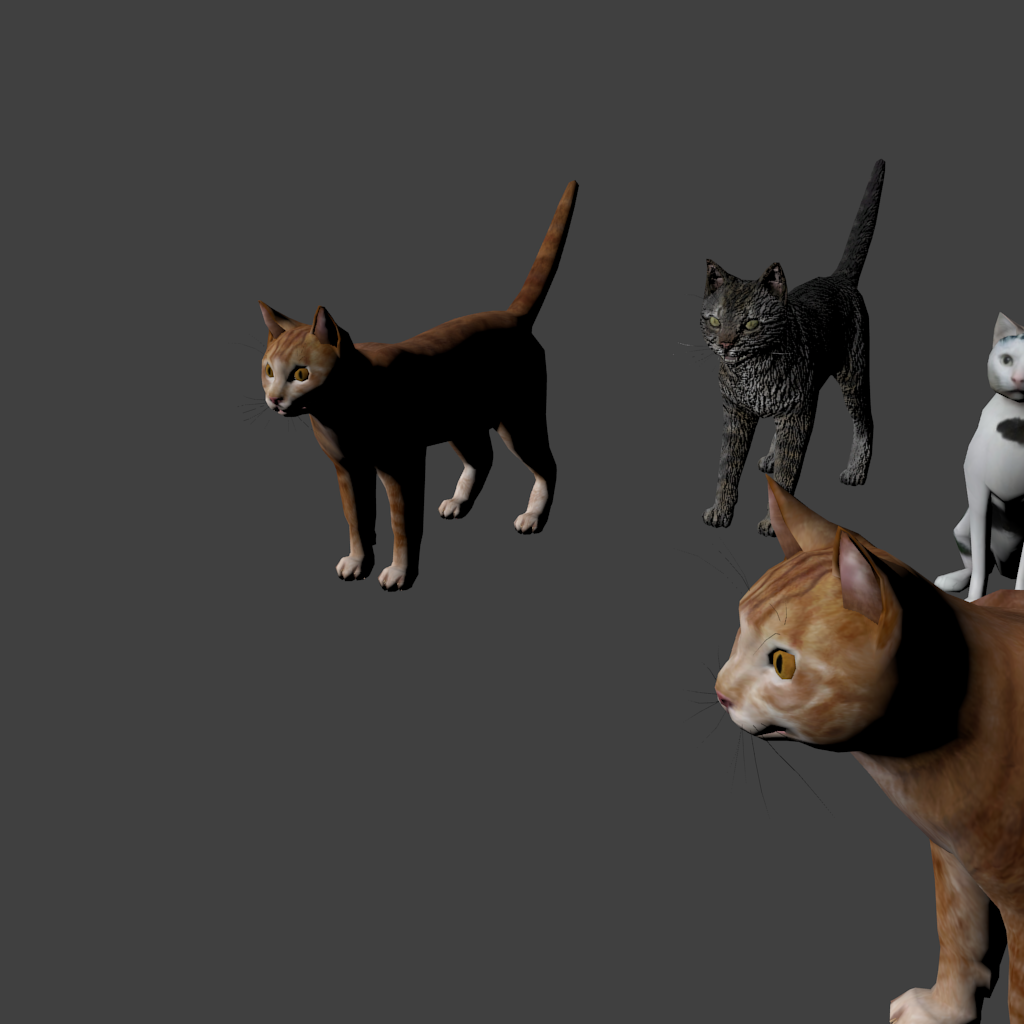Cat: (224, 180, 355, 412)
